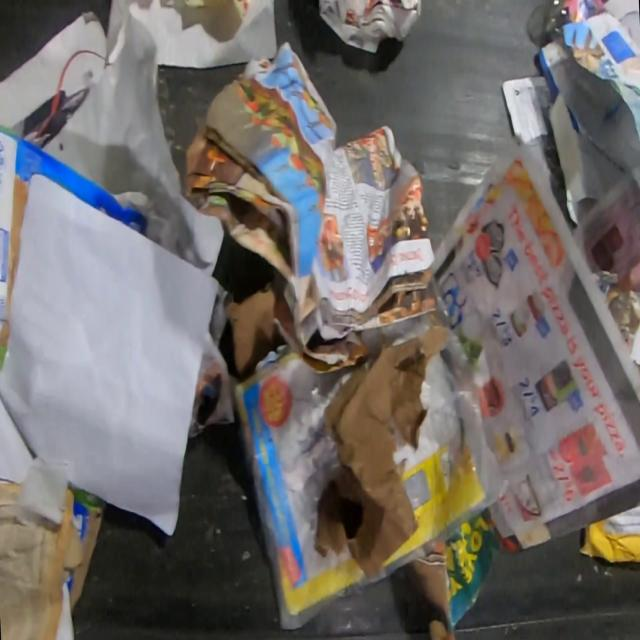cardboard: (313, 309, 451, 582), (224, 281, 276, 378), (65, 499, 103, 614), (578, 503, 640, 563)
rigid_plastic: (544, 0, 608, 39)
soft_plastic: (232, 331, 510, 631), (359, 312, 430, 369)
